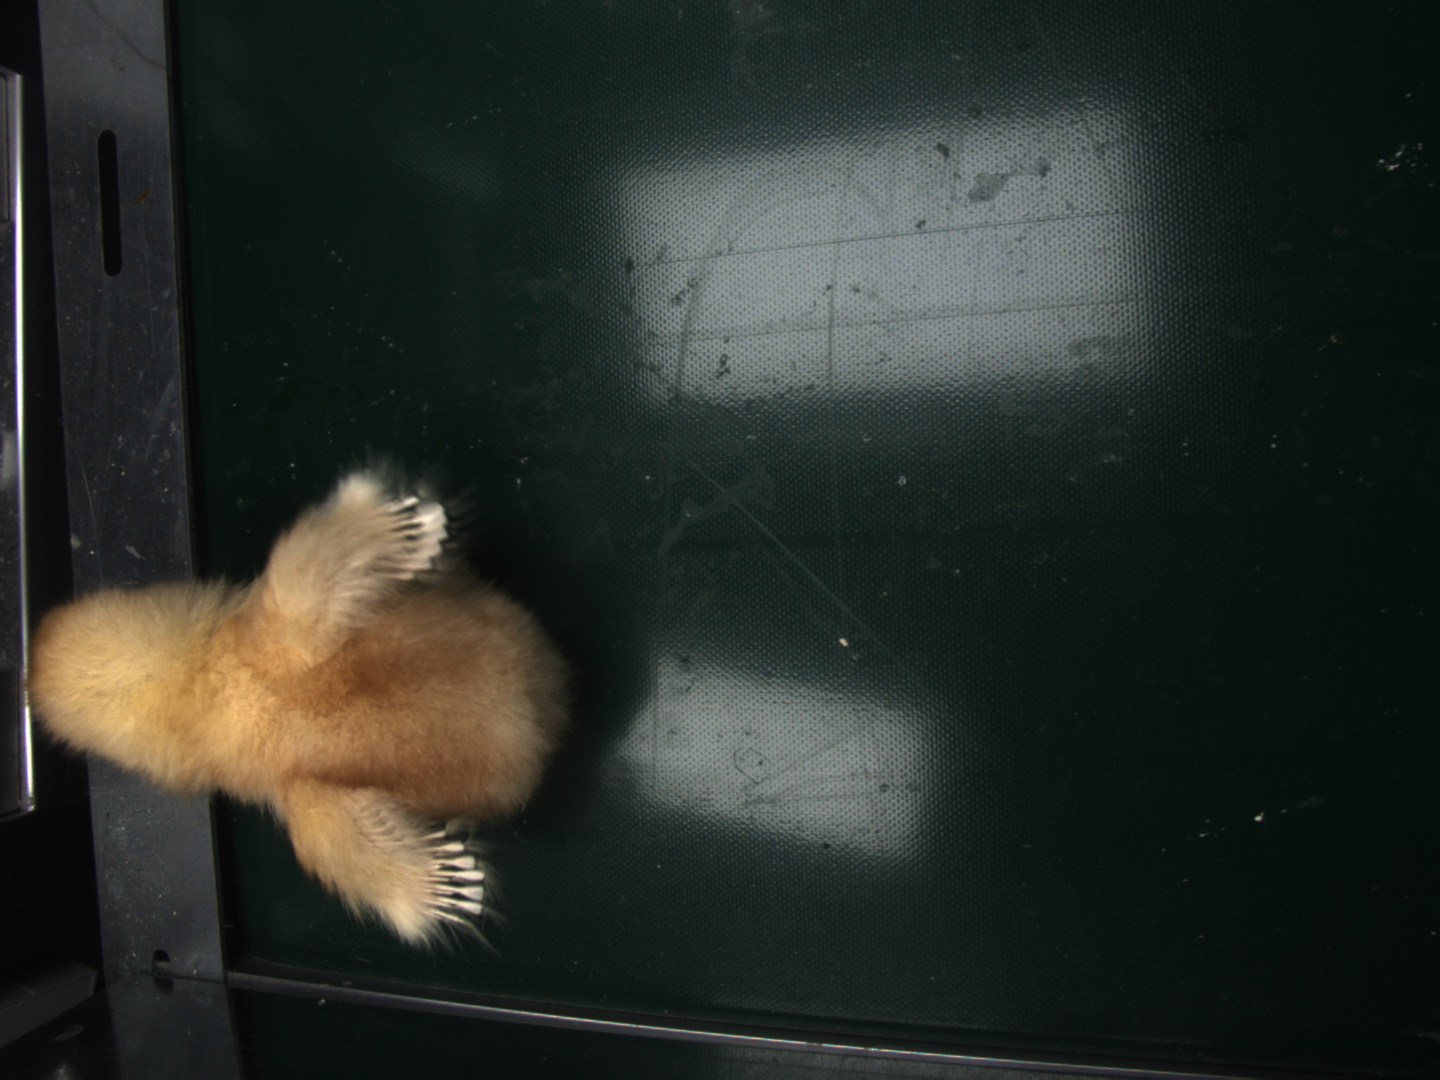female: (420, 838, 483, 927)
